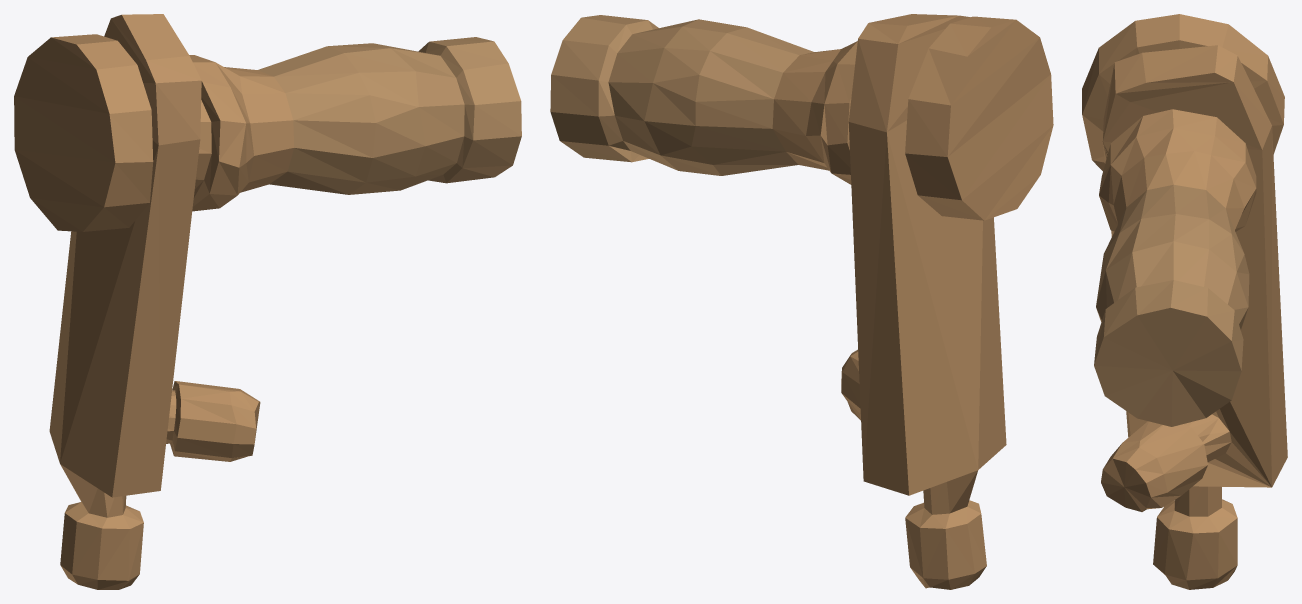
The model's file is miroir_manivelle.glb.
3 views of the same model, side by side, from view 1: azimuth 30°, elevation 25°; view 2: azimuth 150°, elevation 25°; view 3: azimuth 270°, elevation 25° (orthographic).
Visible parts, largest first — view 1: Manivelle; view 2: Manivelle; view 3: Manivelle.
Part boxes in pixels (x1,y1,x2,y2): Manivelle: (14, 14, 521, 589); Manivelle: (550, 14, 1053, 589); Manivelle: (1082, 14, 1287, 589).
Size of the model in its own units: 0.3159 by 0.3819 by 0.1302.
